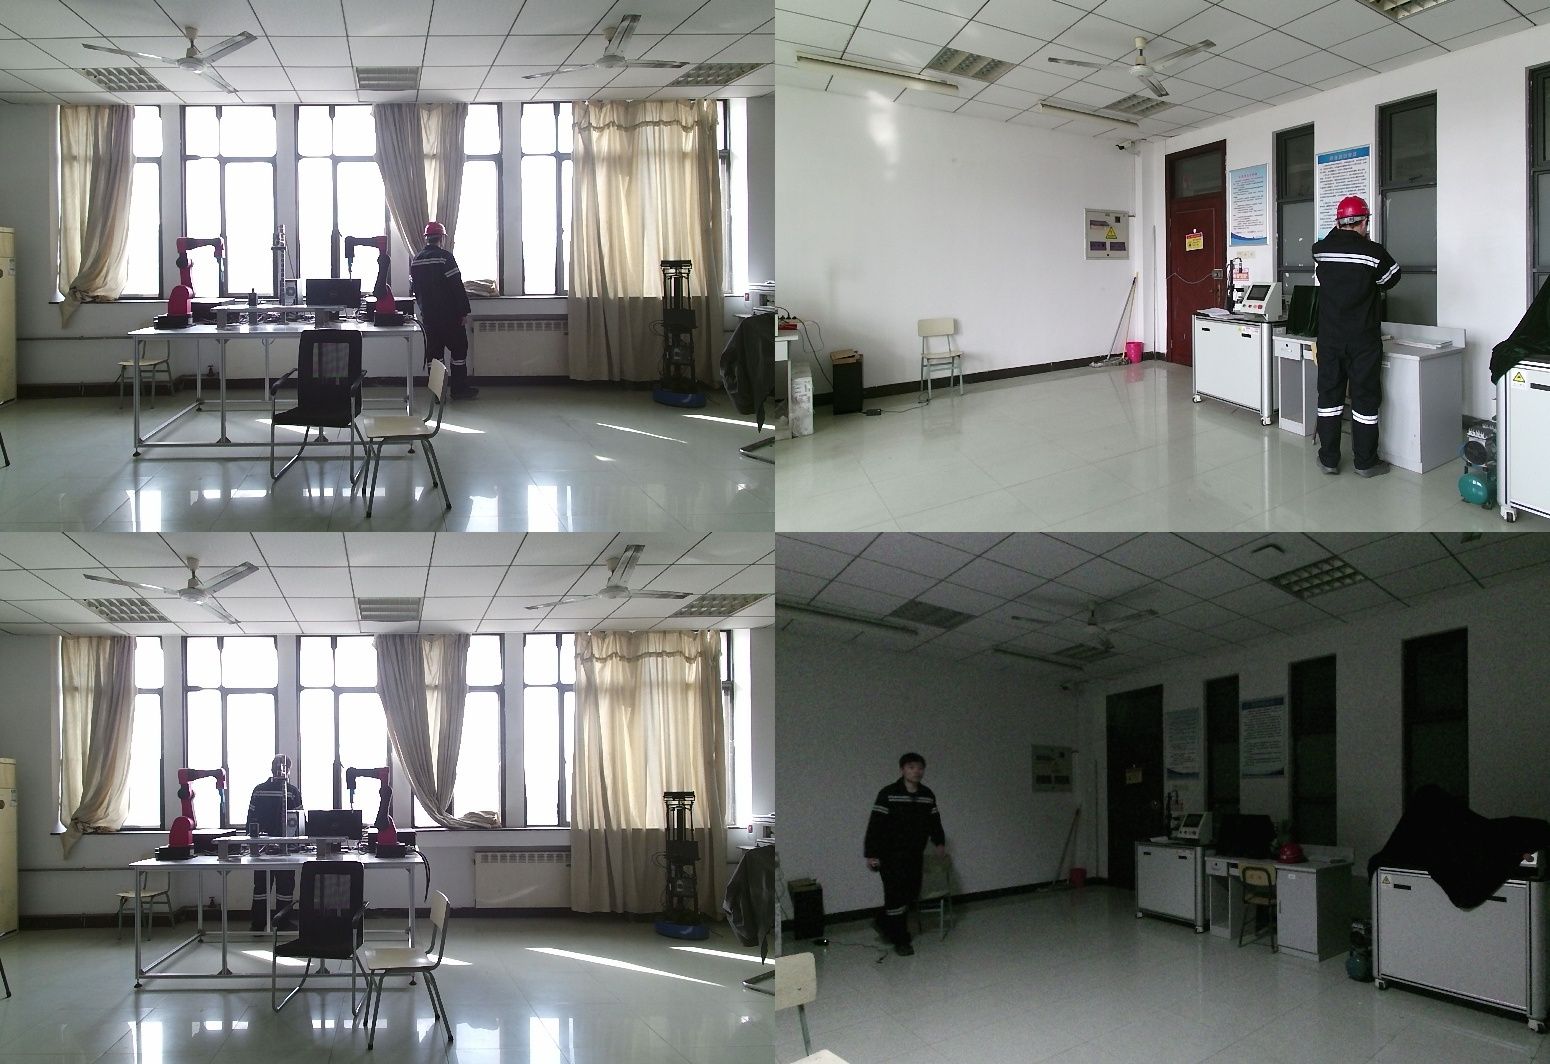person: (1307, 195, 1428, 478), (854, 755, 939, 967), (407, 223, 480, 407), (247, 756, 314, 948)
